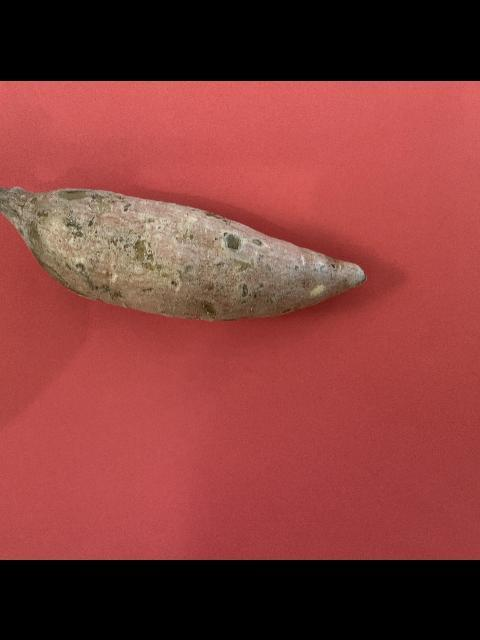sweetpotato: (0, 177, 367, 323)
